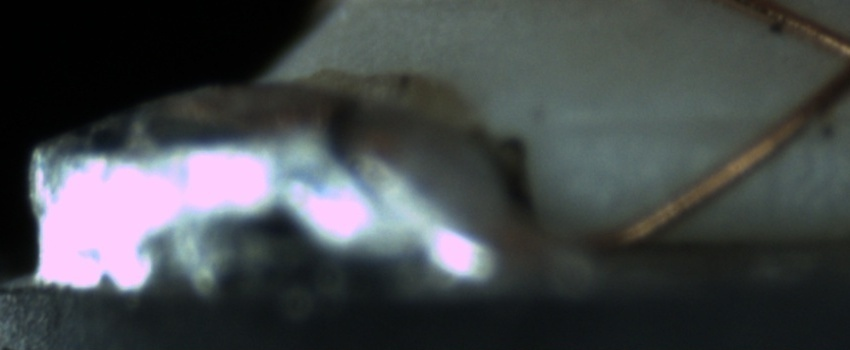CL: (809, 19, 850, 100)
DL: (558, 82, 835, 162)
